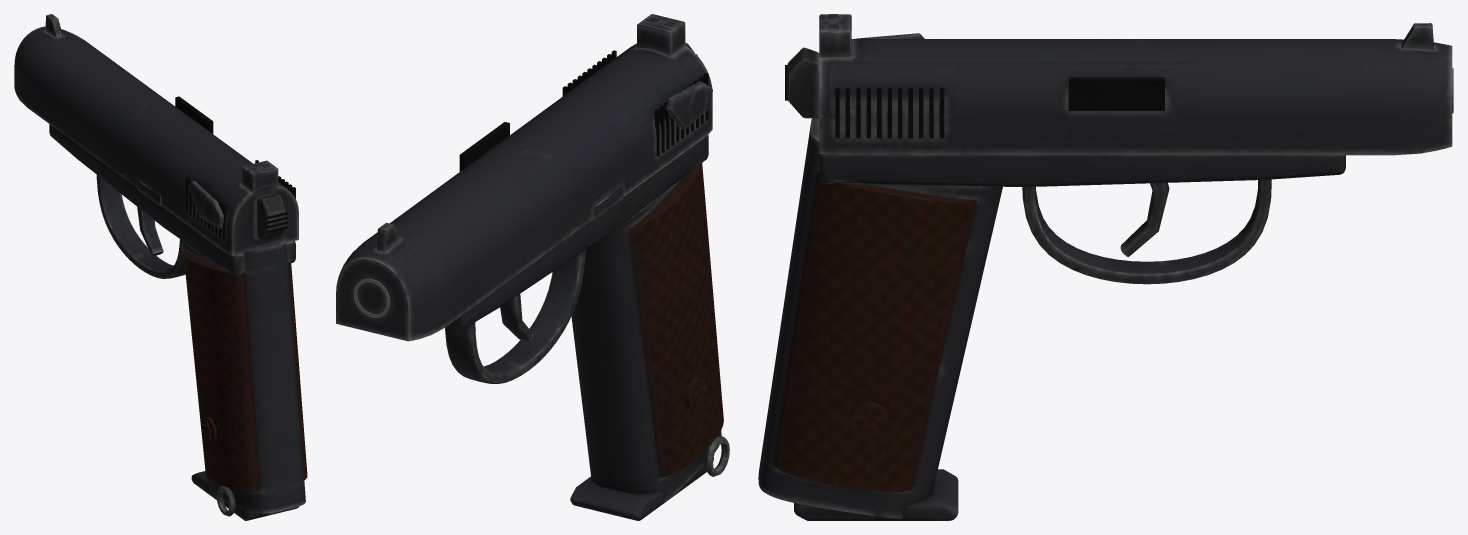
Rendered from makarov.glb.
3 renders of one model, left to right at view 1: azimuth 30°, elevation 25°; view 2: azimuth 150°, elevation 25°; view 3: azimuth 270°, elevation 25°, orthographic. The views are drawn at different scales.
Visible parts, largest first — view 1: makarov_body, mag; view 2: makarov_body, mag; view 3: makarov_body, mag.
Part boxes in pixels (left/top/right/bottom): makarov_body: left=14, top=14, right=307, bottom=516; mag: left=191, top=471, right=299, bottom=520; makarov_body: left=336, top=14, right=729, bottom=501; mag: left=570, top=457, right=713, bottom=520; makarov_body: left=758, top=14, right=1453, bottom=518; mag: left=794, top=469, right=958, bottom=520.
Size of the model in its own units: 0.0335 by 0.1325 by 0.173.
Materials: 1 (1 with a texture image).
